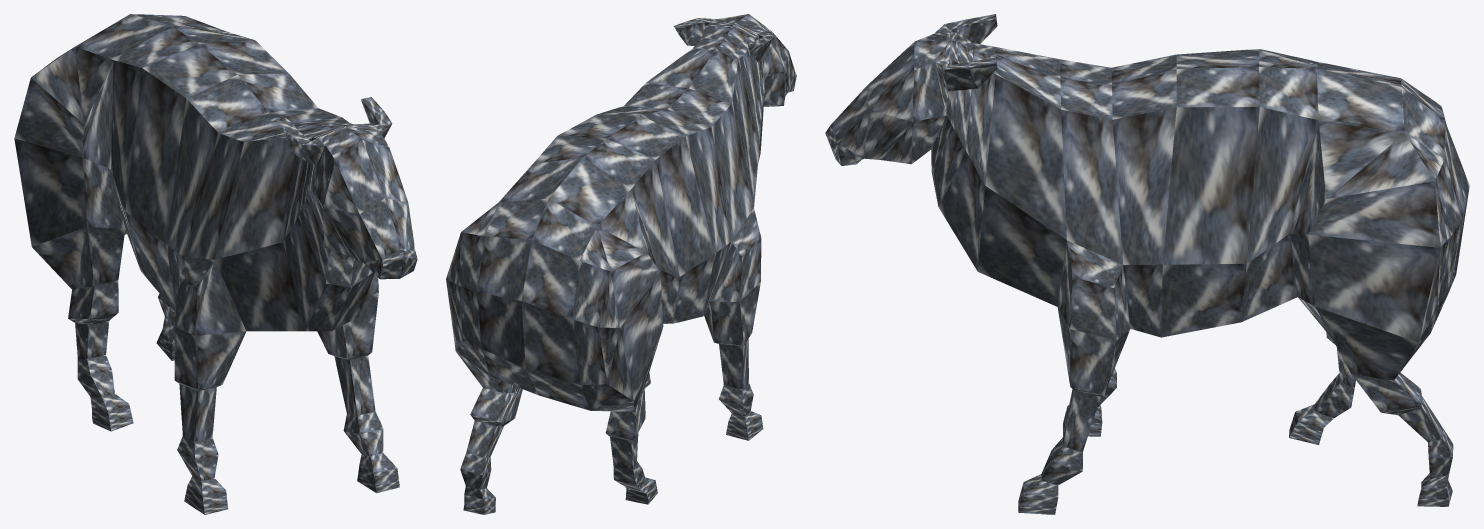
Rendered from SheepIdle_000073.obj.
The picture shows the model from 3 angles, left to right: view 1: azimuth 30°, elevation 25°; view 2: azimuth 150°, elevation 25°; view 3: azimuth 270°, elevation 25°; orthographic projection. The views are drawn at different scales.
Parts seen in each view (by area): view 1: Sheep_Cylinder; view 2: Sheep_Cylinder; view 3: Sheep_Cylinder.
Part boxes in pixels (box(x1,y1,x2,y2)): Sheep_Cylinder: box(14, 14, 417, 514); Sheep_Cylinder: box(446, 14, 796, 514); Sheep_Cylinder: box(825, 14, 1469, 514).
Bounding box in the file's own units: 2.22 × 4.41 × 5.92.
